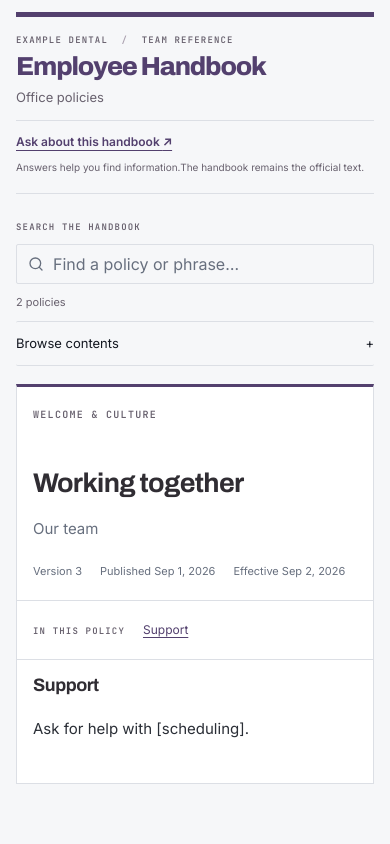
Test: employee handbook reader › exposes the mobile contents control state and current policy
The image size is (390, 844).
Click the button "Browse contents +" at (67, 343), box [16, 321, 374, 366]
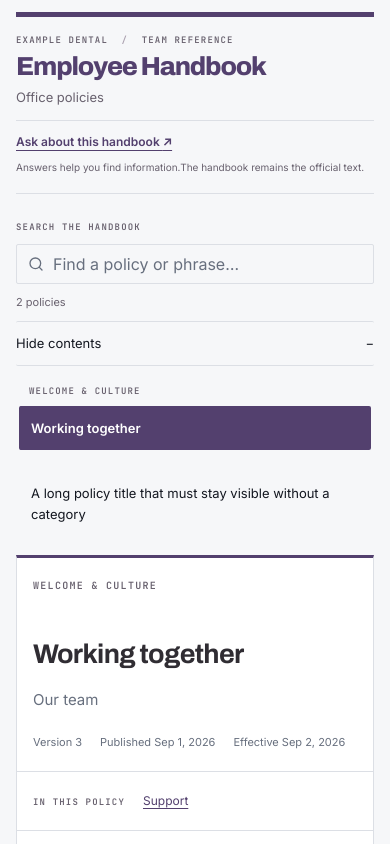
Expected: the button "Hide contents −" is expanded, [16, 321, 374, 366]
